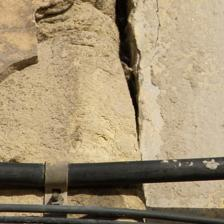Crack: (0, 32, 115, 116), (40, 18, 115, 60)
